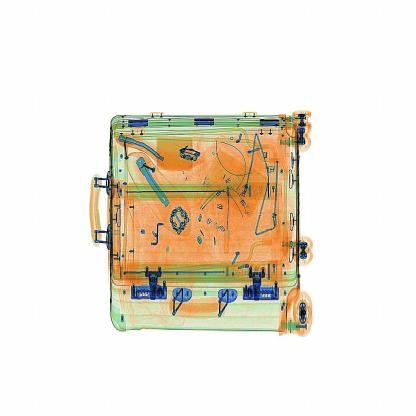pliers: (220, 180, 245, 256)
